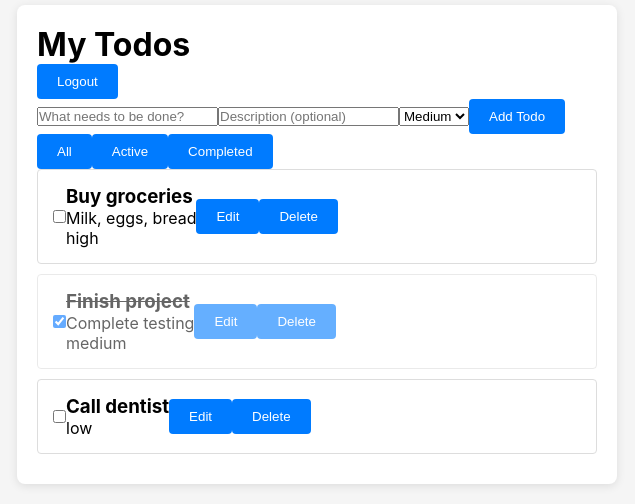
Test: TodoList Integration Tests › filters todos by active status
Expected: the heading "Buy groceries" is shown, left=66, top=185, right=196, bottom=208
Click "Active" filter
Click the button "Active": (130, 152) left=92, top=134, right=168, bottom=169
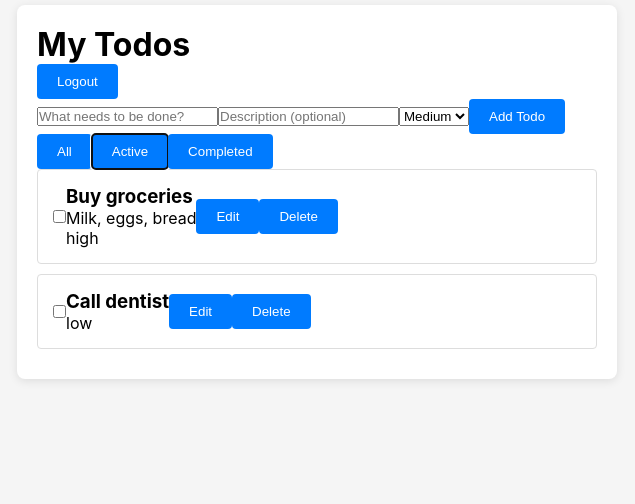
Expected: the heading "Buy groceries" is shown, left=66, top=185, right=196, bottom=208
Expected: the heading "Finish project" is gone
